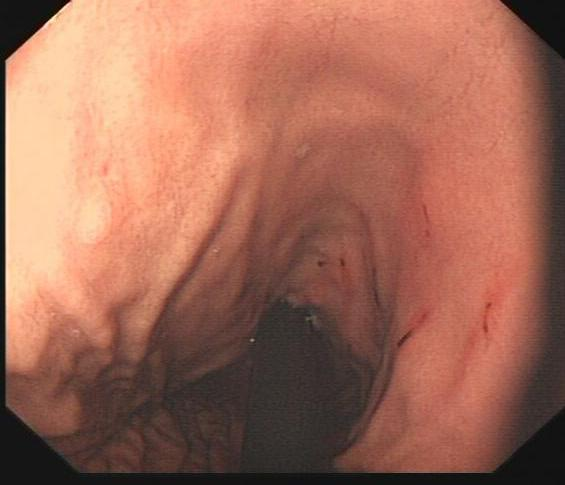Polyp: (54, 174, 128, 269)
